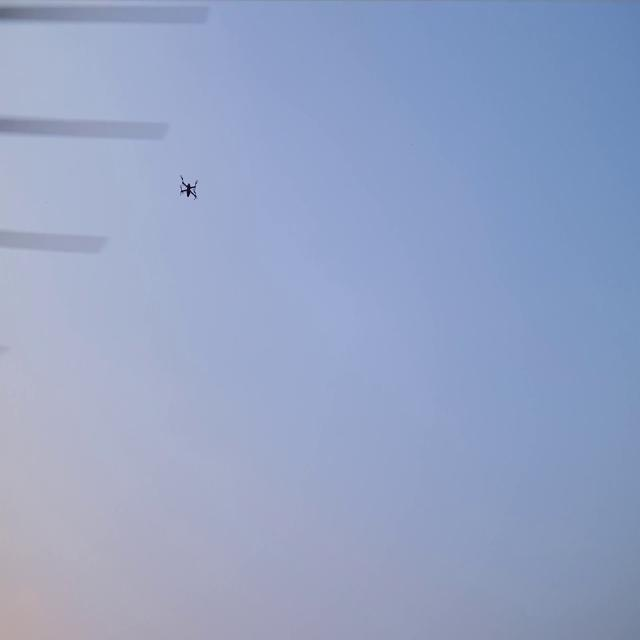UAV: (178, 173, 199, 200)
